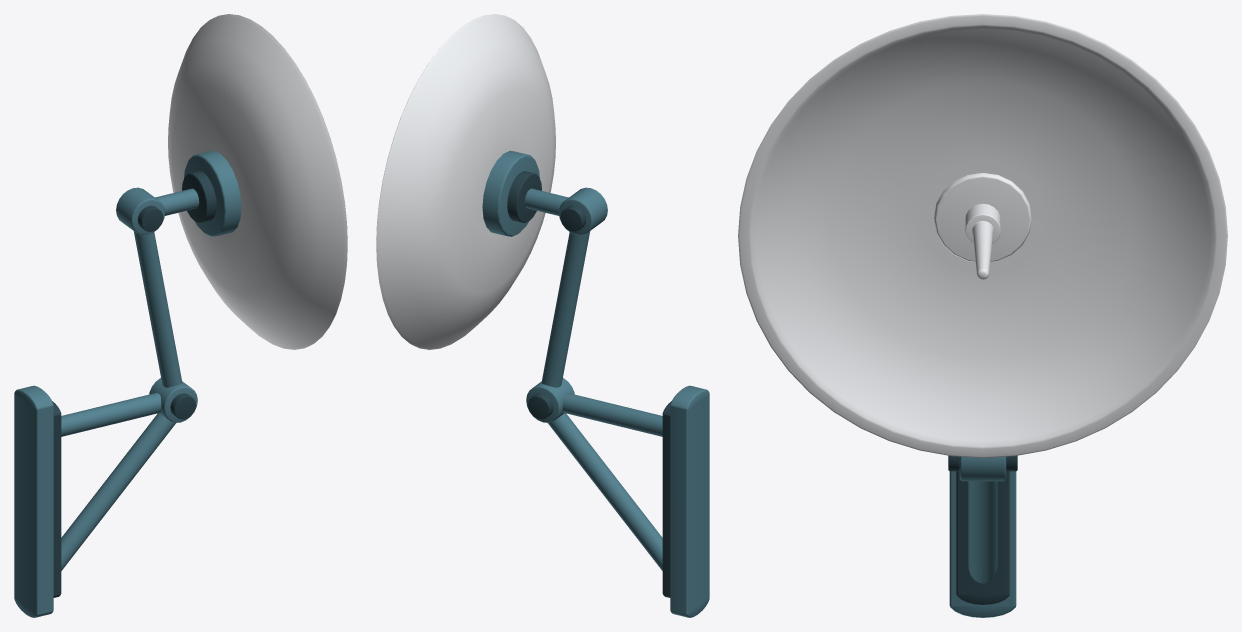
File: City_2_Antenna_2.glb
3 renders of one model, left to right at view 1: azimuth 30°, elevation 25°; view 2: azimuth 150°, elevation 25°; view 3: azimuth 270°, elevation 25°, orthographic. The views are drawn at different scales.
Visible parts, largest first — view 1: City_2_Antenna_2; view 2: City_2_Antenna_2; view 3: City_2_Antenna_2.
Boxes of the visible parts, left/top/right/bottom form: City_2_Antenna_2: left=14, top=14, right=347, bottom=617; City_2_Antenna_2: left=376, top=14, right=709, bottom=617; City_2_Antenna_2: left=738, top=14, right=1227, bottom=617.
Bounding box in the file's own units: 1.6 × 2.77 × 1.63.
1 material, 1 textured.
